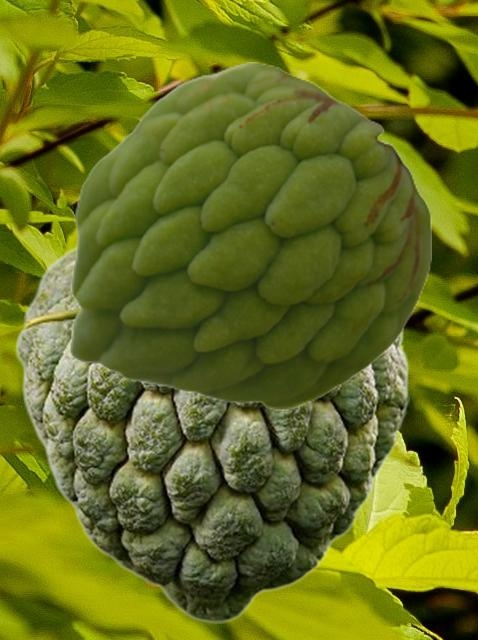atis: (14, 243, 408, 622), (69, 62, 430, 409)
